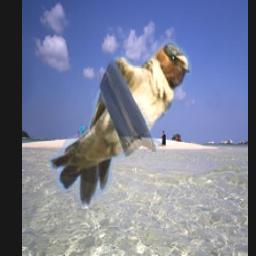Swallow: (49, 39, 192, 207)
